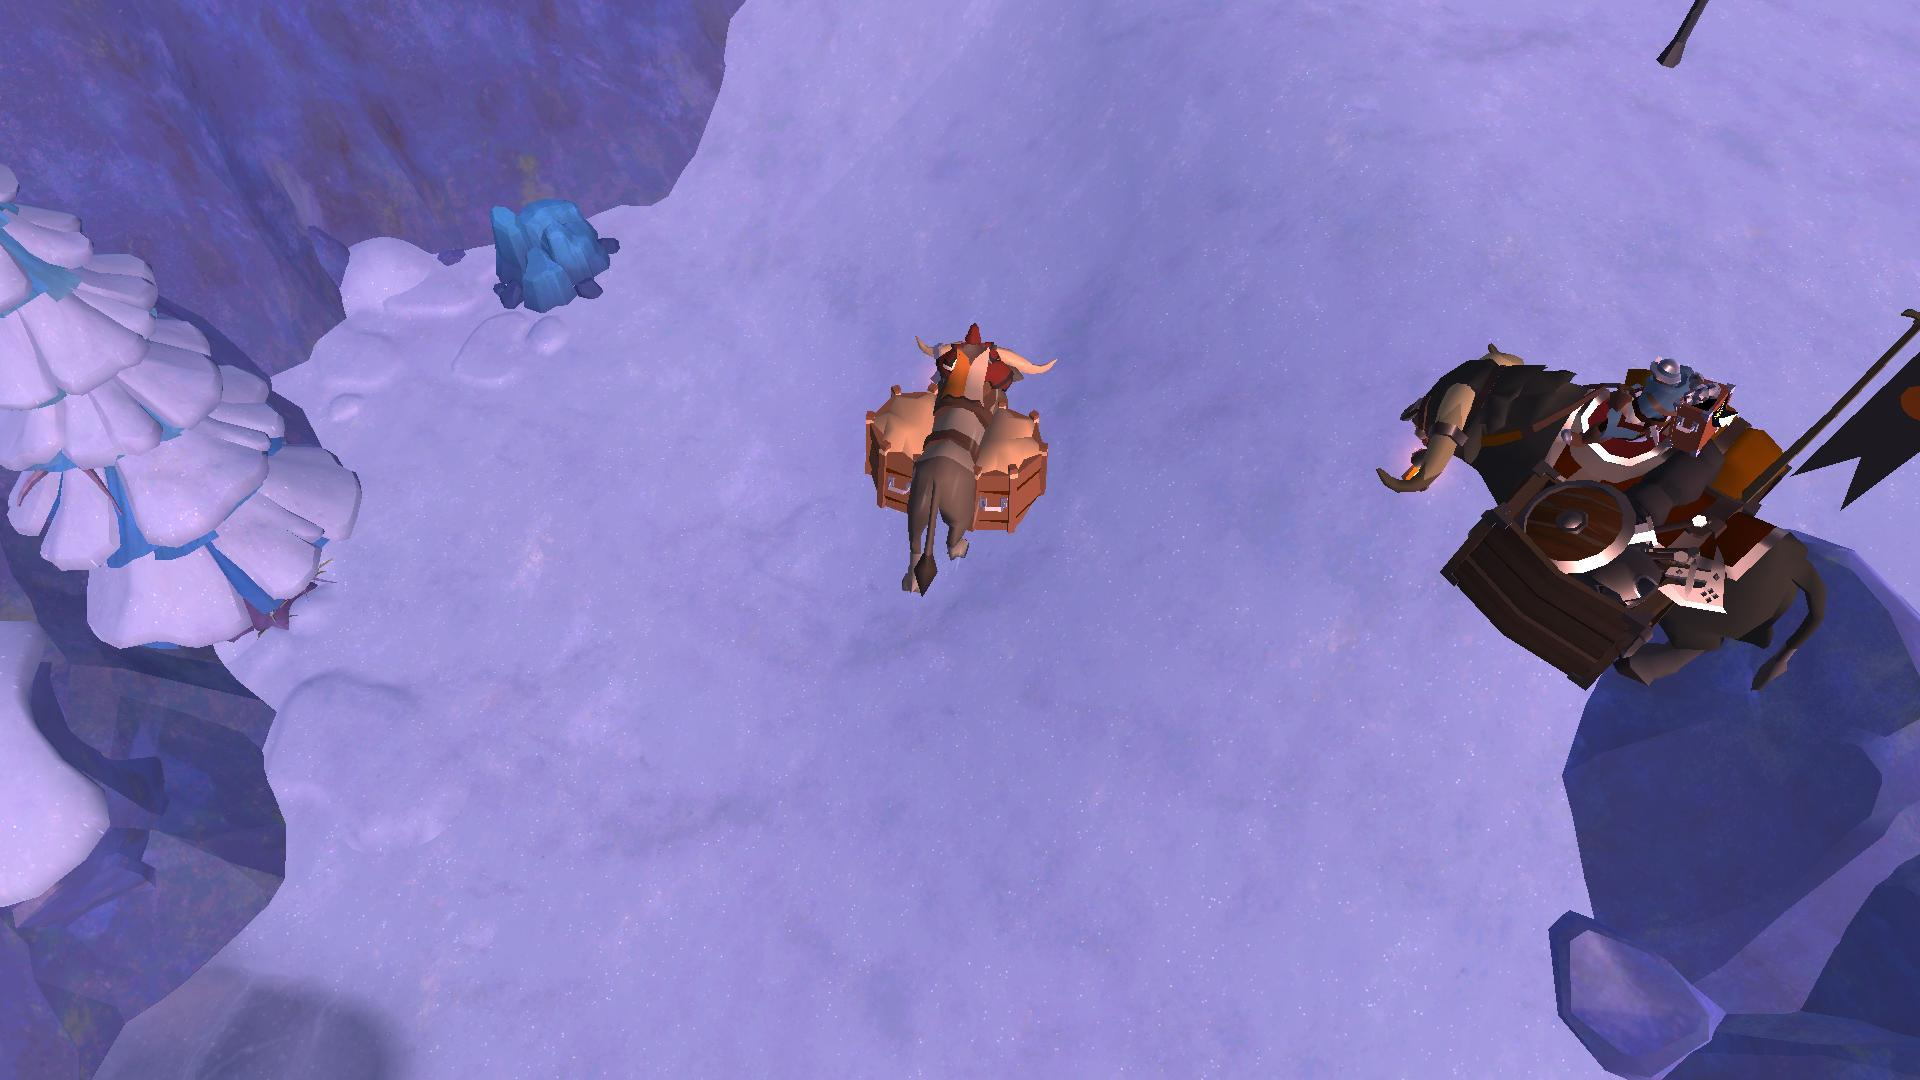rock_t4: (469, 194, 620, 307)
